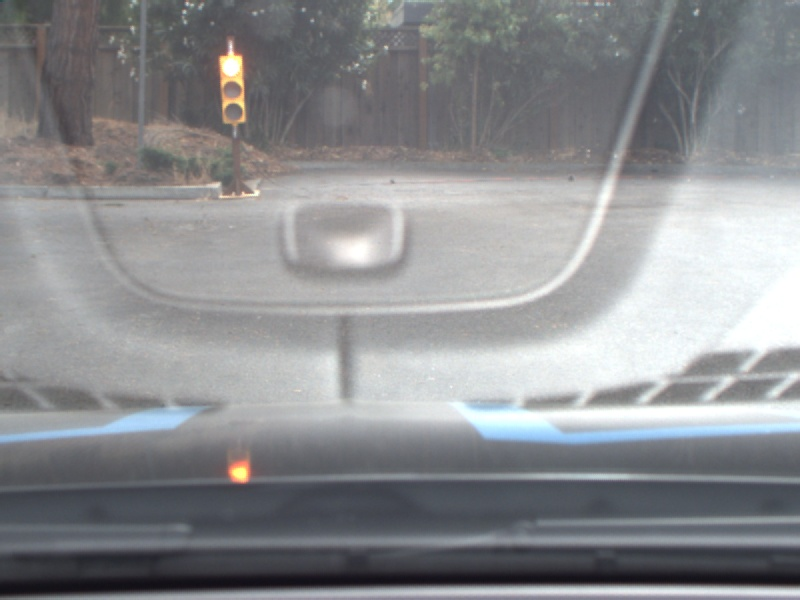red: (216, 52, 250, 128)
